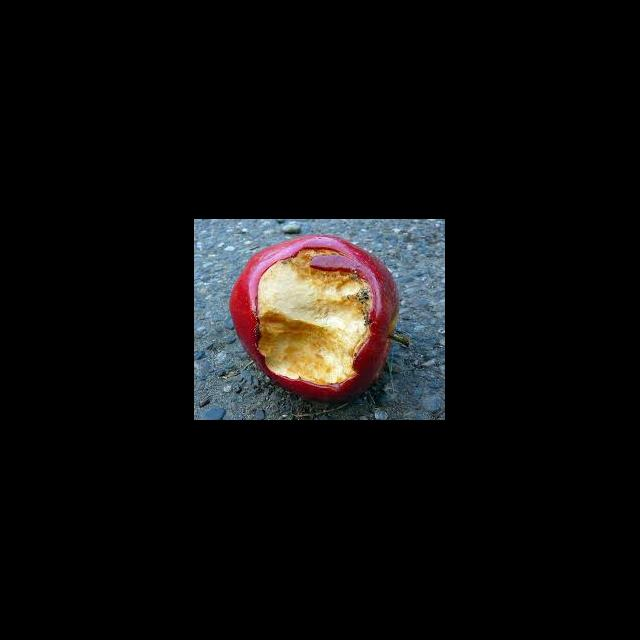food_waste: (216, 231, 409, 409)
